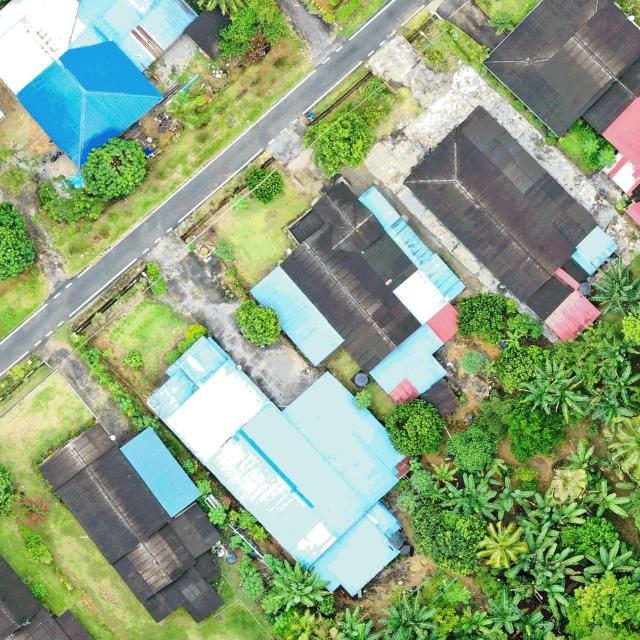Tree: (408, 500, 487, 578), (562, 571, 640, 640), (301, 108, 376, 179), (215, 0, 291, 61), (79, 135, 148, 201), (384, 398, 447, 459), (456, 291, 519, 346), (584, 256, 640, 316), (509, 404, 566, 462), (271, 560, 333, 612), (39, 174, 104, 223), (377, 590, 438, 640), (0, 200, 36, 282), (442, 474, 504, 520), (476, 516, 528, 570), (494, 338, 545, 393), (446, 423, 498, 474), (473, 388, 520, 442), (232, 298, 282, 347), (528, 488, 588, 528), (564, 514, 618, 558), (548, 373, 593, 424), (584, 542, 636, 586), (532, 546, 584, 590), (482, 587, 528, 635), (486, 477, 535, 520), (532, 356, 574, 405), (582, 387, 634, 426), (601, 415, 640, 465), (565, 439, 610, 481), (583, 480, 628, 521), (330, 606, 382, 640), (519, 374, 561, 415), (508, 603, 554, 640), (600, 364, 640, 406), (517, 511, 559, 551), (245, 164, 284, 204), (598, 334, 638, 367), (428, 458, 461, 492), (360, 75, 396, 106), (486, 8, 518, 36), (459, 349, 484, 375), (472, 468, 500, 491), (501, 328, 527, 351), (397, 489, 419, 516), (410, 469, 433, 493), (421, 484, 448, 504), (120, 348, 144, 370), (352, 388, 373, 411), (597, 147, 617, 168), (208, 506, 227, 525), (582, 138, 600, 154)
